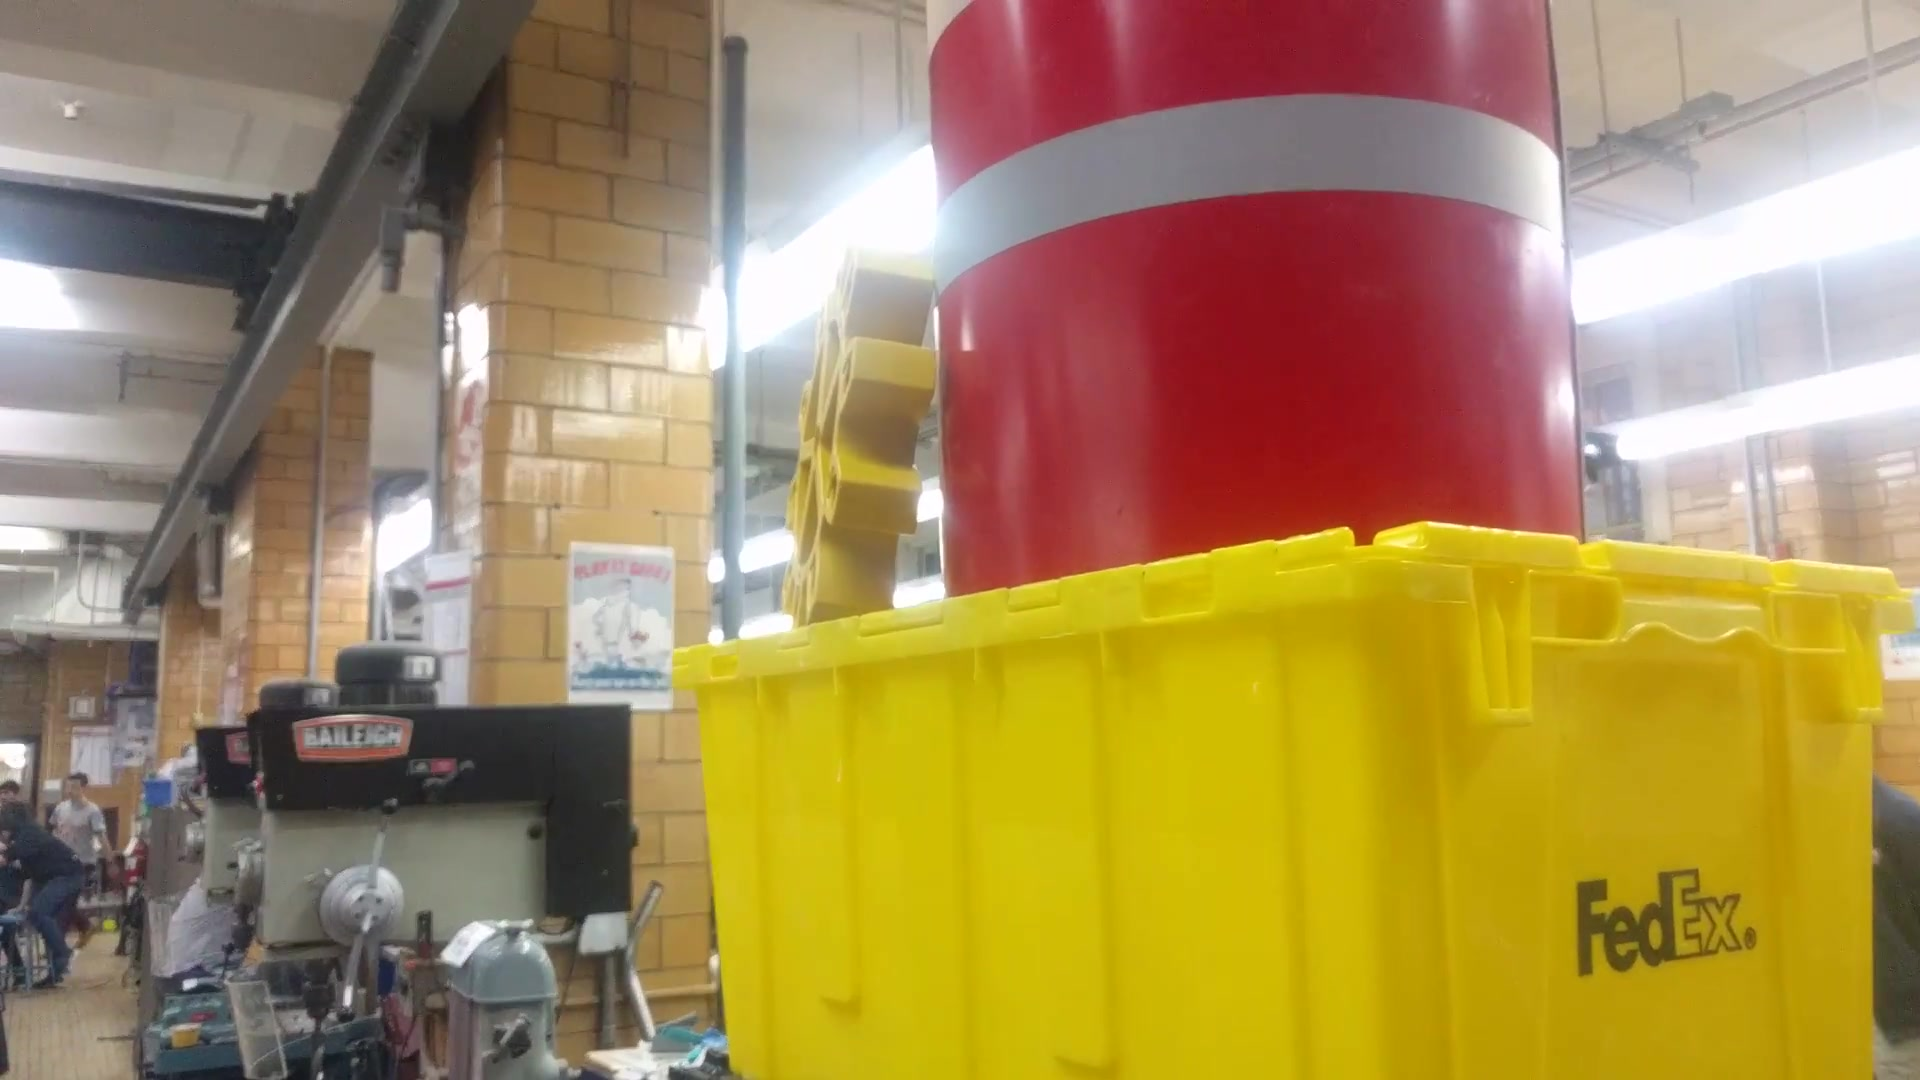gear: (775, 233, 936, 636)
